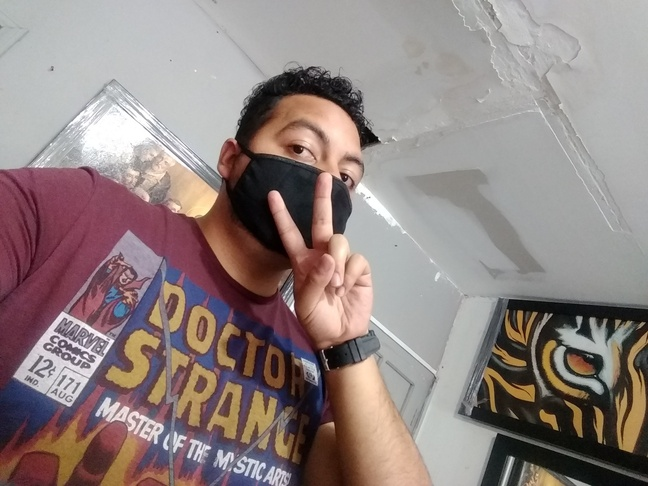Yoshi: (214, 40, 410, 291)
